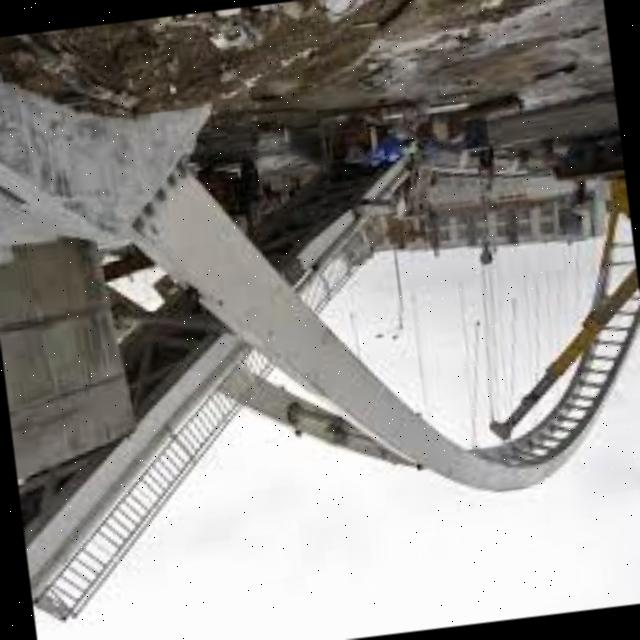bridge collapse: (0, 11, 640, 625)
